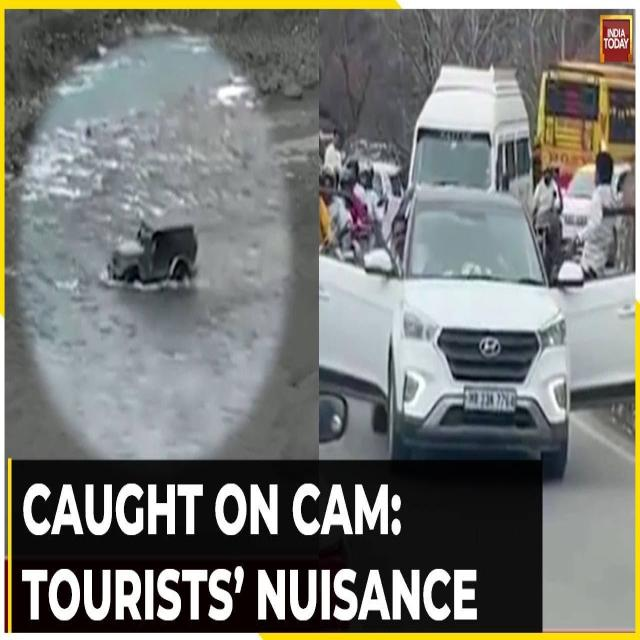bus: (409, 67, 532, 207), (536, 62, 635, 176)
car: (320, 187, 635, 476)
